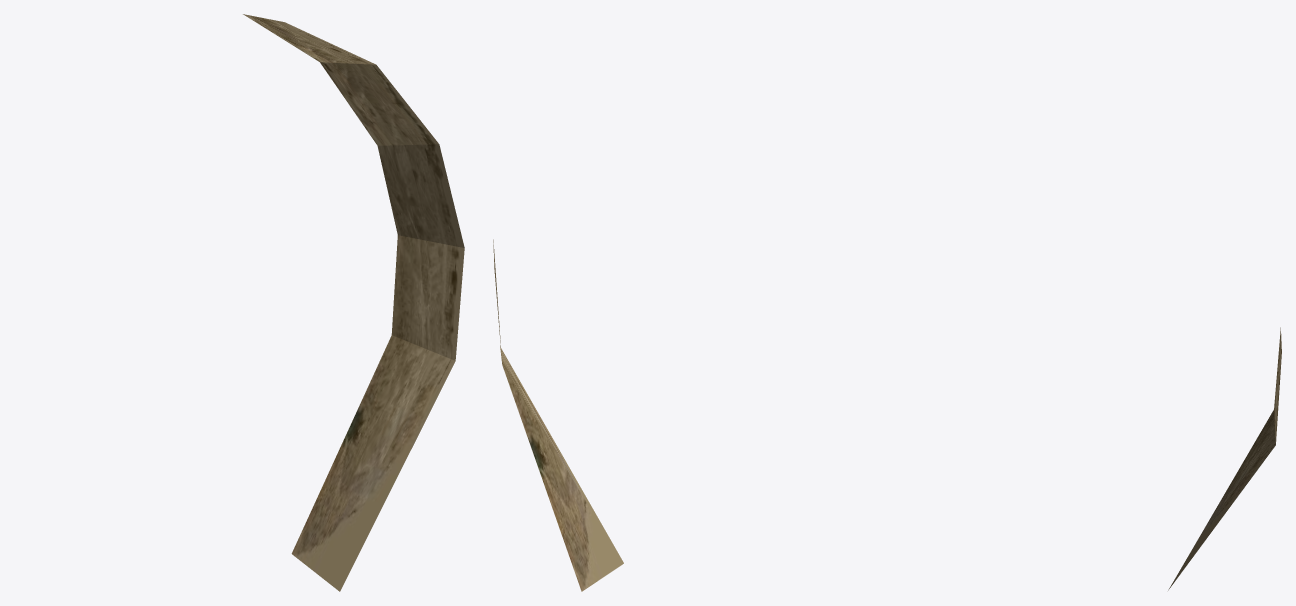
The model's file is backdrop_toujane_frnthill.glb.
The picture shows the model from 3 angles, left to right: view 1: azimuth 30°, elevation 25°; view 2: azimuth 150°, elevation 25°; view 3: azimuth 330°, elevation 25°; orthographic projection. The views are drawn at different scales.
Size of the model in its own units: 11392 by 15434 by 2415.
Materials: 1 (1 with a texture image).
